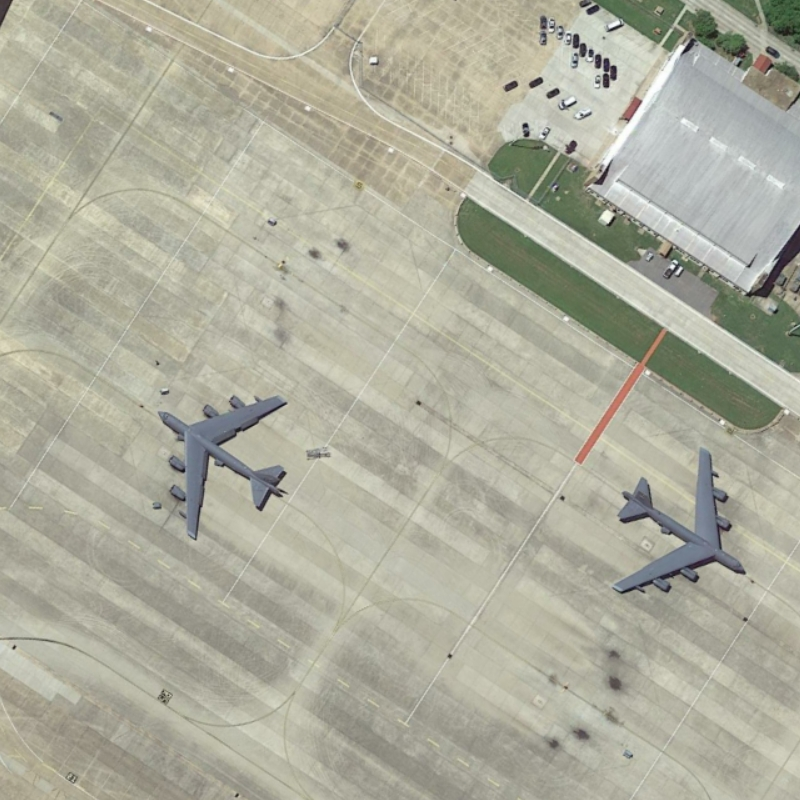A8: (145, 383, 299, 544), (603, 440, 751, 594)
